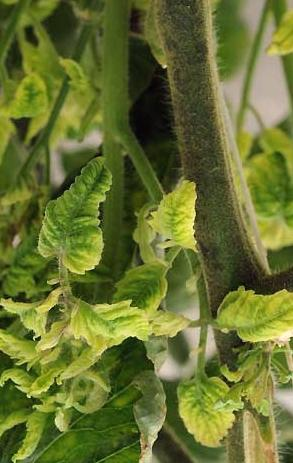Tomato leaf yellow virus: (38, 152, 127, 289), (145, 151, 209, 274), (78, 285, 185, 343), (216, 288, 293, 353)
